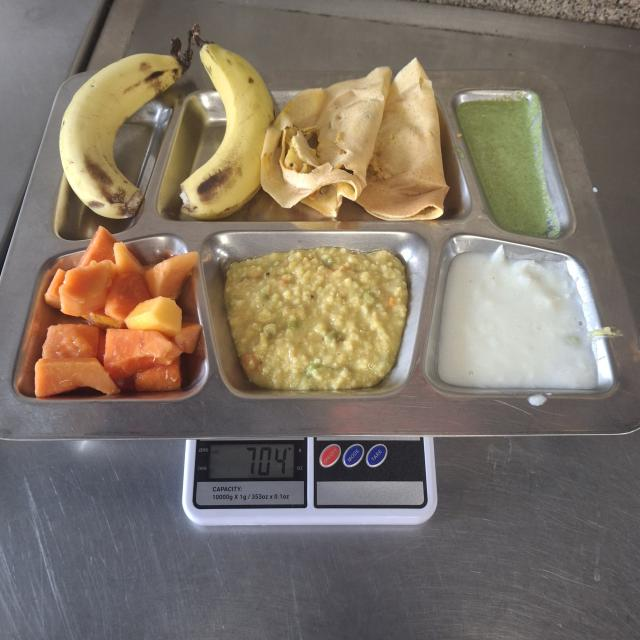Banana: (59, 43, 267, 225)
Besan Chilla: (261, 56, 451, 223)
Chutney: (452, 94, 576, 239)
Curd: (432, 247, 601, 395)
Khichdi: (215, 243, 417, 396)
Papaya: (31, 224, 206, 406)
